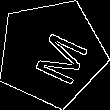M_NW: (19, 21, 85, 84)
